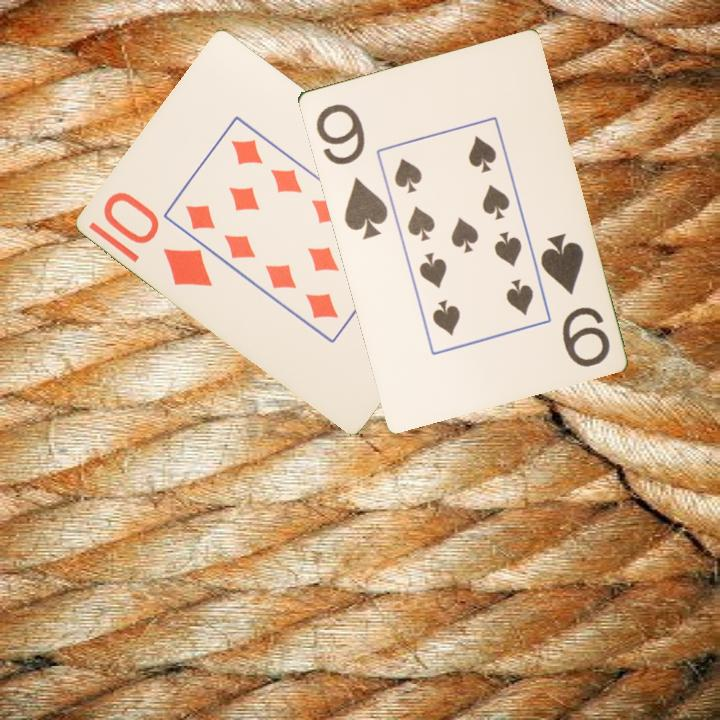10d: (100, 188, 216, 290)
9s: (311, 99, 391, 242), (536, 229, 613, 370)
